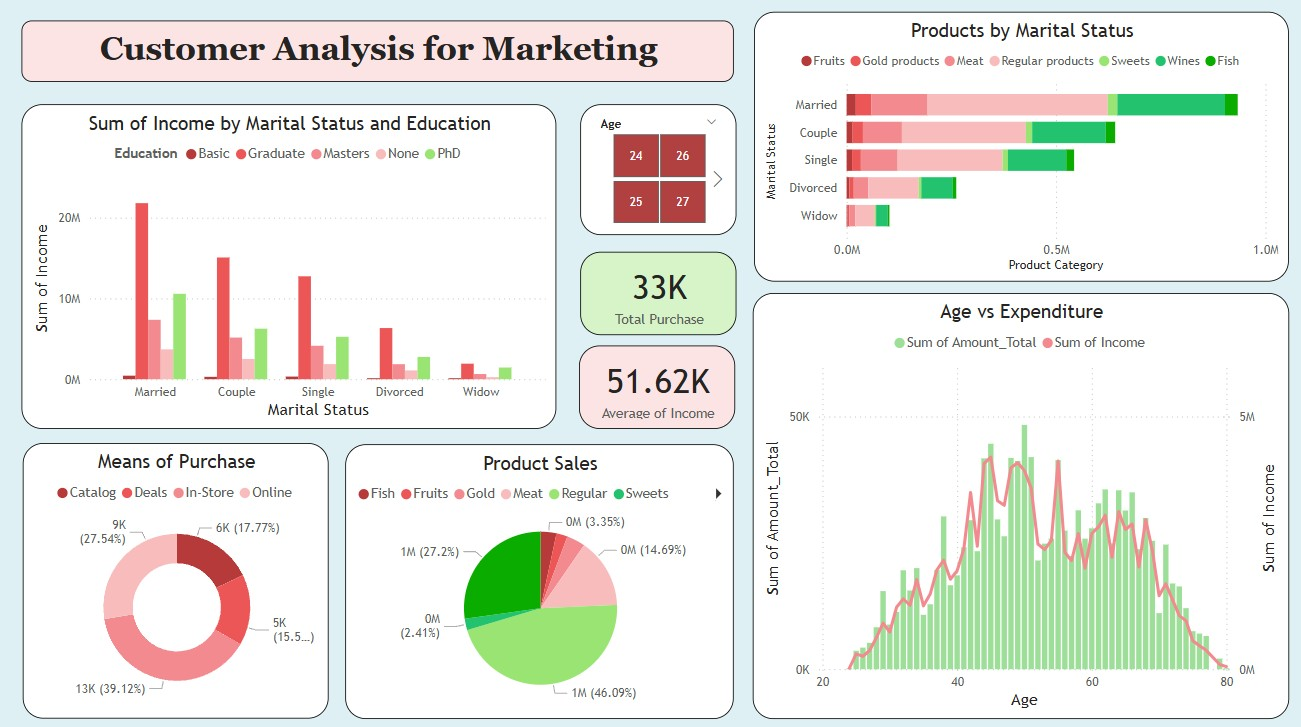

The dashboard page shown, as its layout file describes it:
{"tool":"powerbi","page":{"name":"Customer Analysis","canvas":[1280,720],"ordinal":0},"visuals":[{"type":"lineStackedColumnComboChart","title":"Age vs Expenditure","fields":{"Category":["ifood_df.Age"],"Y":["Sum(ifood_df.Amount_Total)"],"Y2":["Sum(ifood_df.Income)"]},"box":[737.4,293.5,524.6,417],"z":0},{"type":"donutChart","title":"Means of Purchase","fields":{"Y":["Sum(ifood_df.No.CatalogPurchases)","Sum(ifood_df.No.DealsPurchases)","Sum(ifood_df.No.StorePurchases)","Sum(ifood_df.No.WebPurchases)"]},"box":[22.7,440,299.5,269.7],"z":1000},{"type":"pieChart","title":"Product Sales","fields":{"Y":["Sum(ifood_df.Amount_FishProducts)","Sum(ifood_df.Amount_Fruits)","Sum(ifood_df.Amount_GoldProds)","Sum(ifood_df.Amount_MeatProducts)","Sum(ifood_df.Amount_RegularProducts)","Sum(ifood_df.Amount_SweetProducts)","Sum(ifood_df.Amount_Wines)"]},"box":[338.9,441.9,380.1,269],"z":2000},{"type":"barChart","title":"Products by Marital Status","fields":{"Category":["ifood_df.Marital Status"],"Y":["Sum(ifood_df.Amount_Fruits)","Sum(ifood_df.Amount_GoldProds)","Sum(ifood_df.Amount_MeatProducts)","Sum(ifood_df.Amount_RegularProducts)","Sum(ifood_df.Amount_SweetProducts)","Sum(ifood_df.Amount_Wines)","Sum(ifood_df.Amount_FishProducts)"]},"box":[738.6,18.3,523.4,264.1],"z":3000},{"type":"clusteredColumnChart","fields":{"Category":["ifood_df.Marital Status"],"Y":["Sum(ifood_df.Income)"],"Series":["ifood_df.Education"]},"box":[22,108.8,523.4,317.9],"z":4000},{"type":"card","fields":{"Values":["Avg(ifood_df.Income)"]},"box":[567.4,344.8,152.9,81.9],"z":5000},{"type":"card","fields":{"Values":["ifood_df.Total Purchase"]},"box":[568.6,253.1,152.9,81.9],"z":6000},{"type":"textbox","box":[22,26.9,697,59.9],"z":7000},{"type":"slicer","fields":{"Values":["ifood_df.Age"]},"box":[568.6,108.8,152.9,128.4],"z":8000}]}

Visuals, with their boxes in screenshot pixels (x1, y1, x2, y2), scaled from the page's 1280x720 canvas onto the 1301x727 screenshot:
"Age vs Expenditure" lineStackedColumnComboChart: (749,296,1283,717)
"Means of Purchase" donutChart: (23,444,327,717)
"Product Sales" pieChart: (344,446,731,718)
"Products by Marital Status" barChart: (751,18,1283,285)
clusteredColumnChart - ifood_df.Marital Status x Sum(ifood_df.Income): (22,110,554,431)
card - Avg(ifood_df.Income): (577,348,732,431)
card - ifood_df.Total Purchase: (578,256,733,338)
textbox: (22,27,731,88)
slicer - ifood_df.Age: (578,110,733,240)
